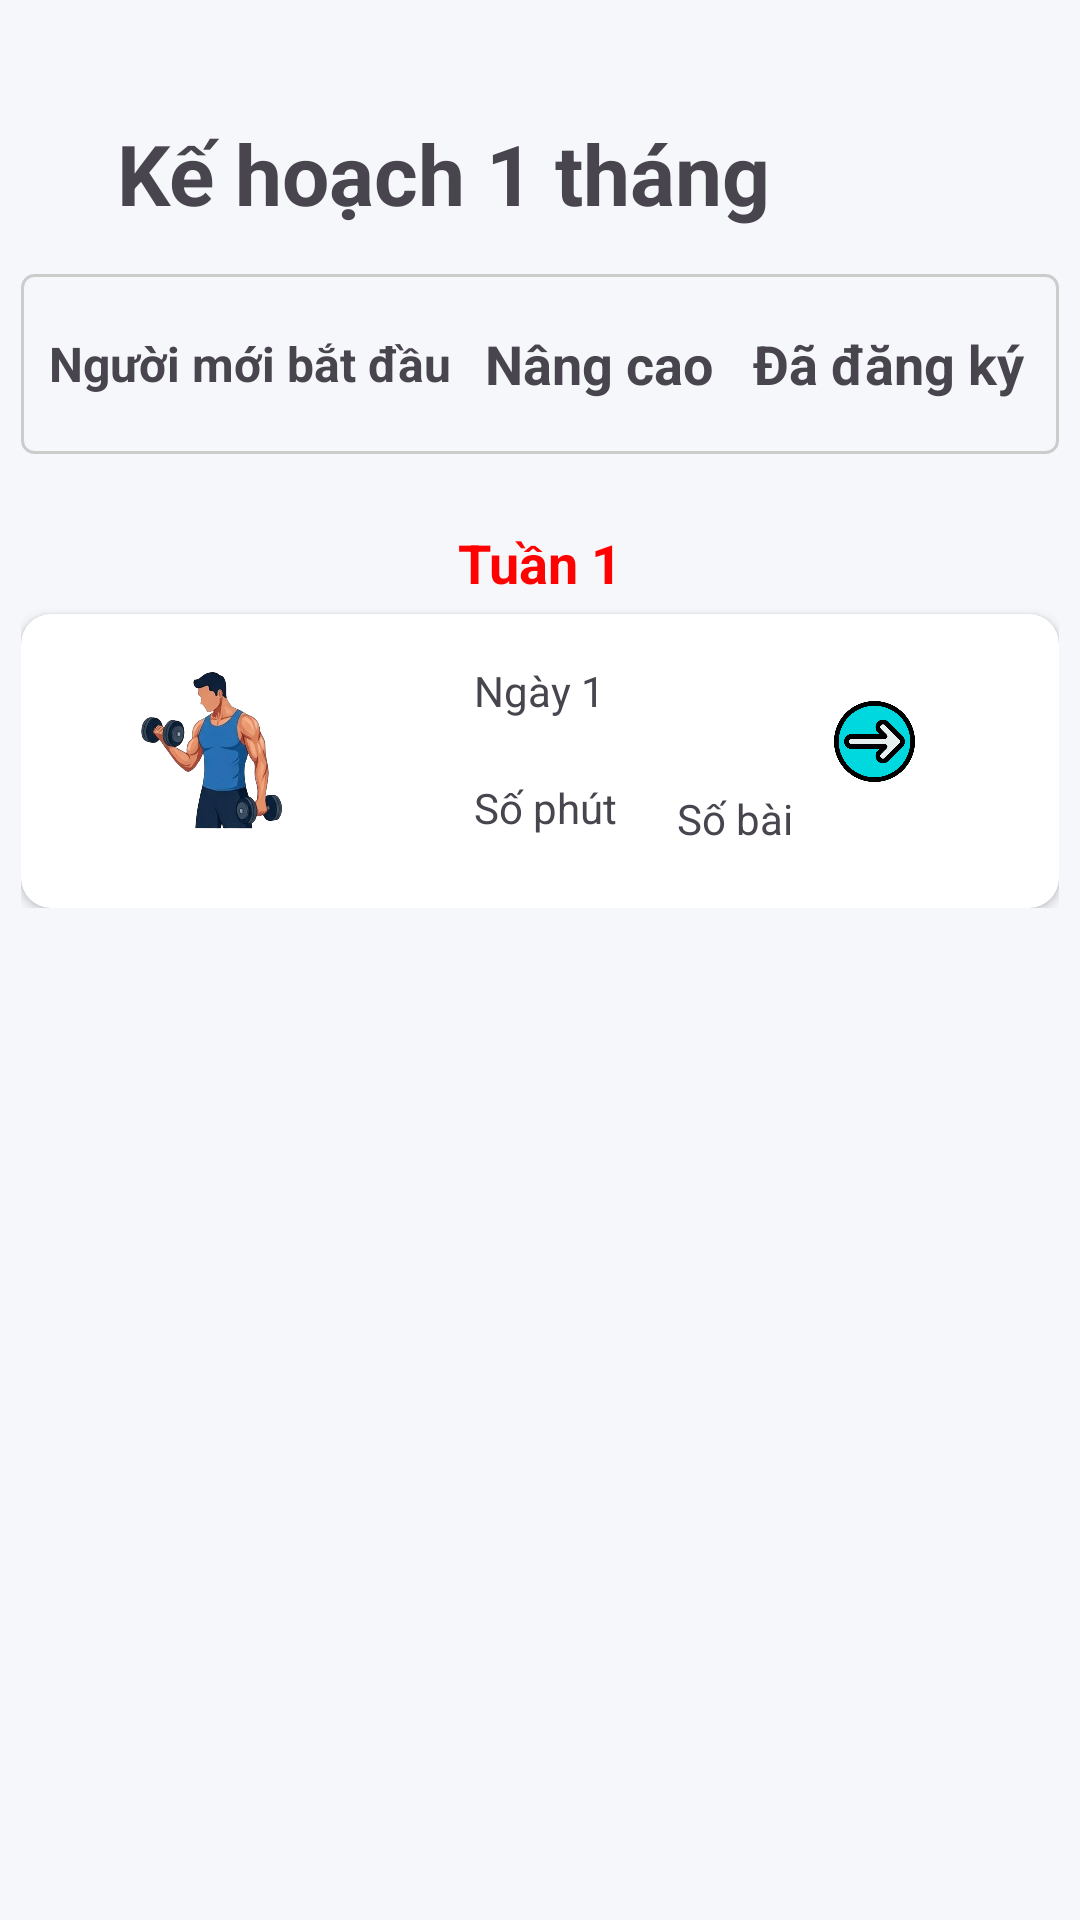

Screen size 1080w x 1920h. Icon name, then its box in pixels as rect(x1, y1, x2, y2):
vungtapchung canhtayvavai: rect(141, 672, 282, 829)
